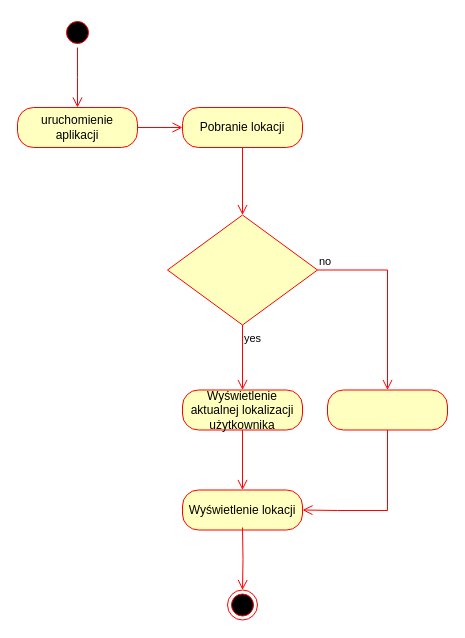
This 465x638 diagram has some shape labels left out. Each missing label, with the box of its shape:
Wyświetlenie napisu "brak lokalizacji": (326, 389, 448, 430)
Zezwolenie na pobranie lokalizacji użytkownika: (166, 214, 318, 325)
